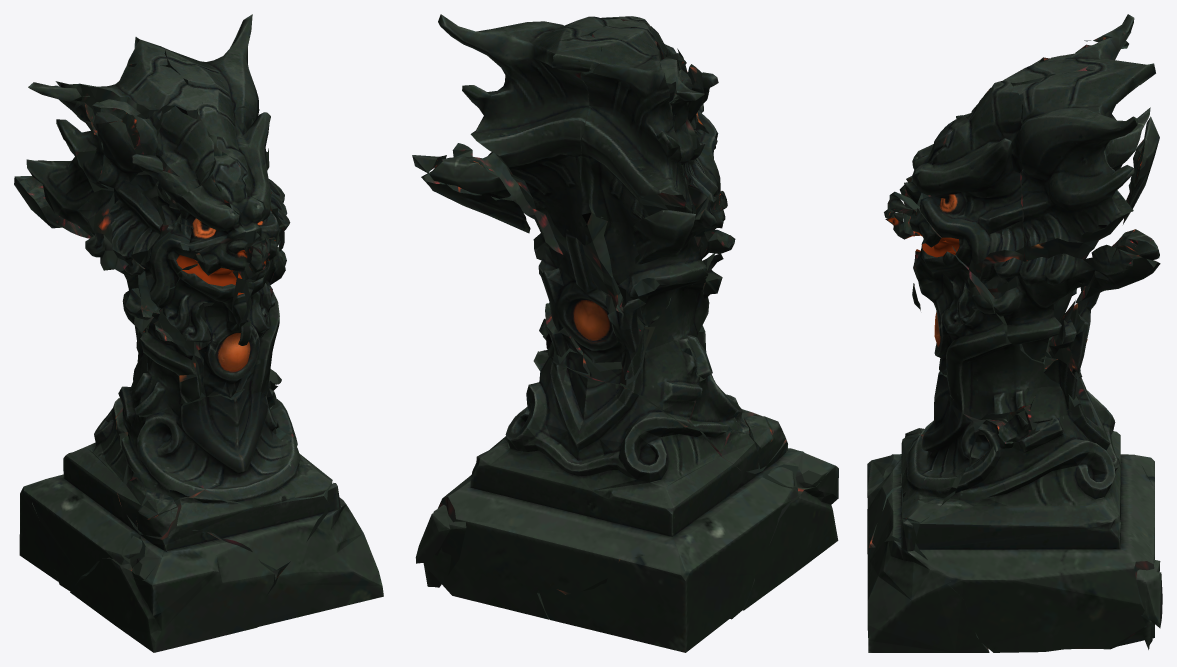
Rendered from TowerT3.glb.
3 views of the same model, side by side, from view 1: azimuth 30°, elevation 25°; view 2: azimuth 150°, elevation 25°; view 3: azimuth 270°, elevation 25° (orthographic). The views are drawn at different scales.
Visible parts, largest first — view 1: models/props_structures/tower_dragon_blk_dest_lvl2.vmdl_c.to; view 2: models/props_structures/tower_dragon_blk_dest_lvl2.vmdl_c.to; view 3: models/props_structures/tower_dragon_blk_dest_lvl2.vmdl_c.to.
Boxes of the visible parts, x1,y1,x2,y2 form: models/props_structures/tower_dragon_blk_dest_lvl2.vmdl_c.to: (14, 14, 383, 652); models/props_structures/tower_dragon_blk_dest_lvl2.vmdl_c.to: (412, 14, 838, 652); models/props_structures/tower_dragon_blk_dest_lvl2.vmdl_c.to: (867, 14, 1162, 652).
Size of the model in its own units: 2.05 by 3.97 by 2.
1 material, 1 textured.
